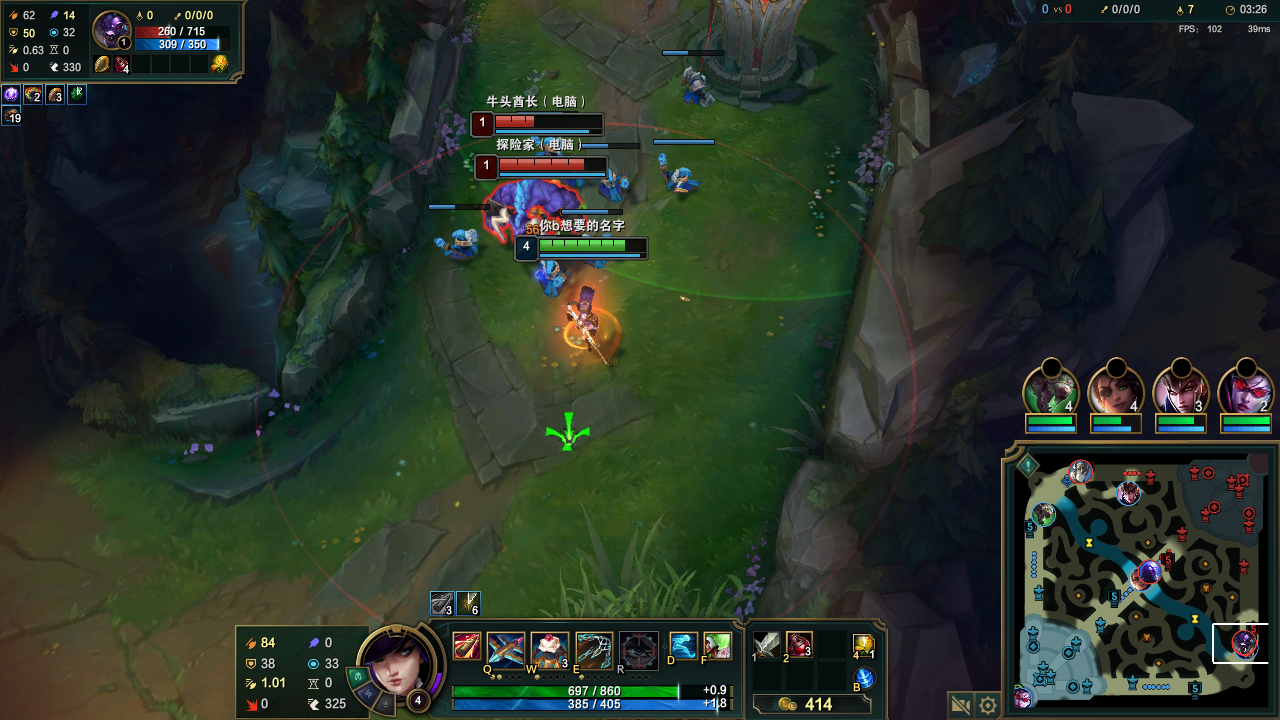DFFYT: (706, 14, 802, 94)
DFYX: (497, 112, 592, 128), (499, 158, 590, 172)
WFXB: (656, 152, 706, 195), (430, 227, 475, 259), (675, 70, 706, 100), (599, 176, 627, 200)
Yita: (1186, 674, 1204, 698)
